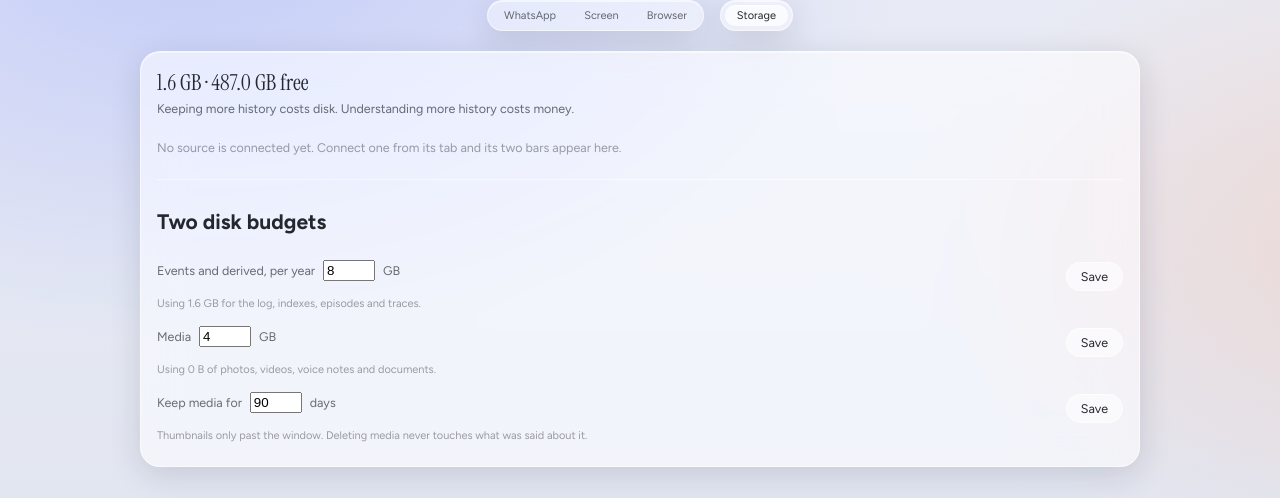
Test case: a re-visited sub-tab repaints from cache, in the same frame › a re-visit inside the freshness window does not re-ask the worker
The image size is (1280, 498).
Expected: the element named "disk use" is shown, [157,68,308,97]
Click the button "Screen" at (601, 16), box [572,5,631,26]
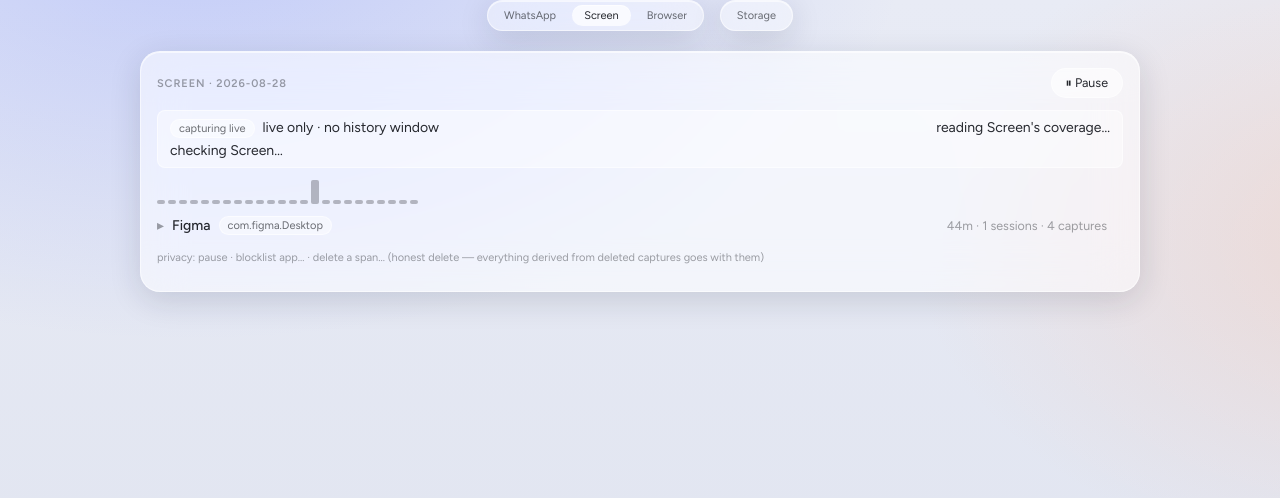
Now the element labelled "Screen" is shown, box [140,51,1140,292]
Click the button "Storage" at (756, 16), box [725,5,788,26]
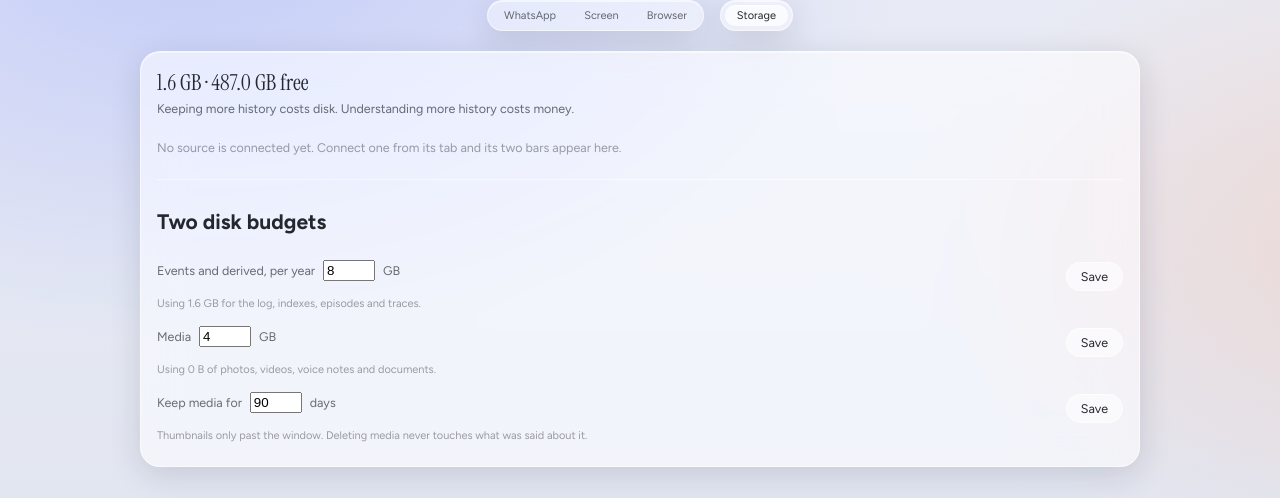
Now the element named "disk use" is shown, box [157,68,308,97]
